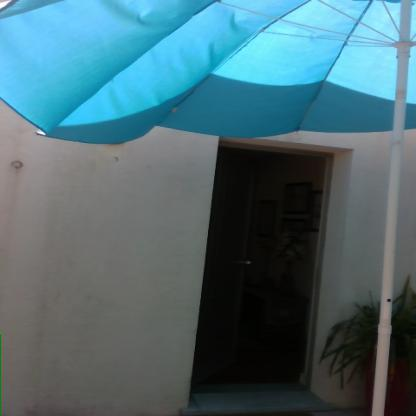open: (186, 129, 385, 415)
